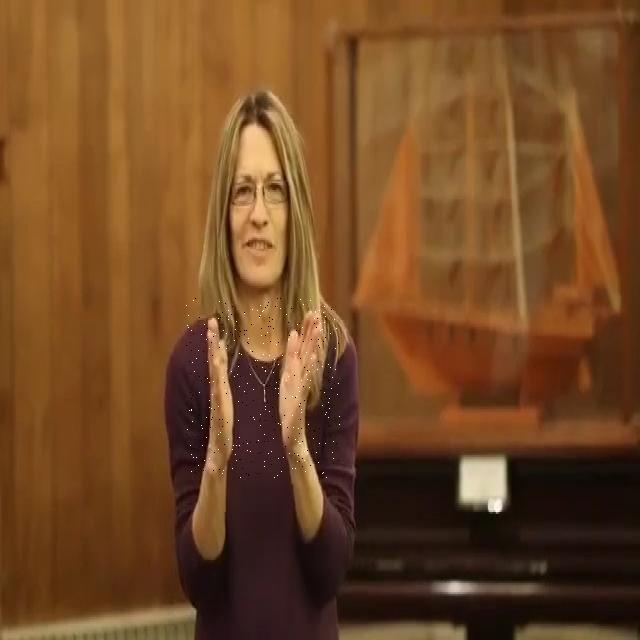small: (186, 298, 340, 478)
